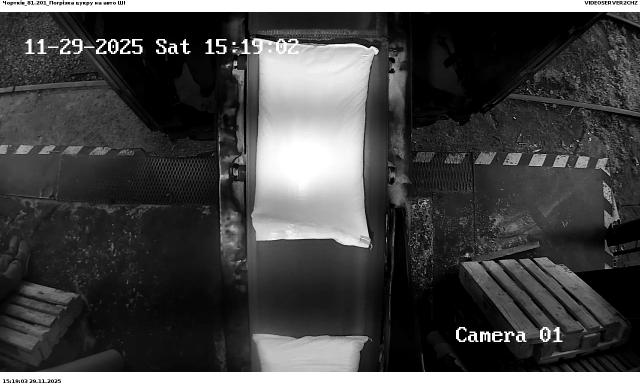bag: (252, 39, 379, 249), (254, 334, 370, 372)
